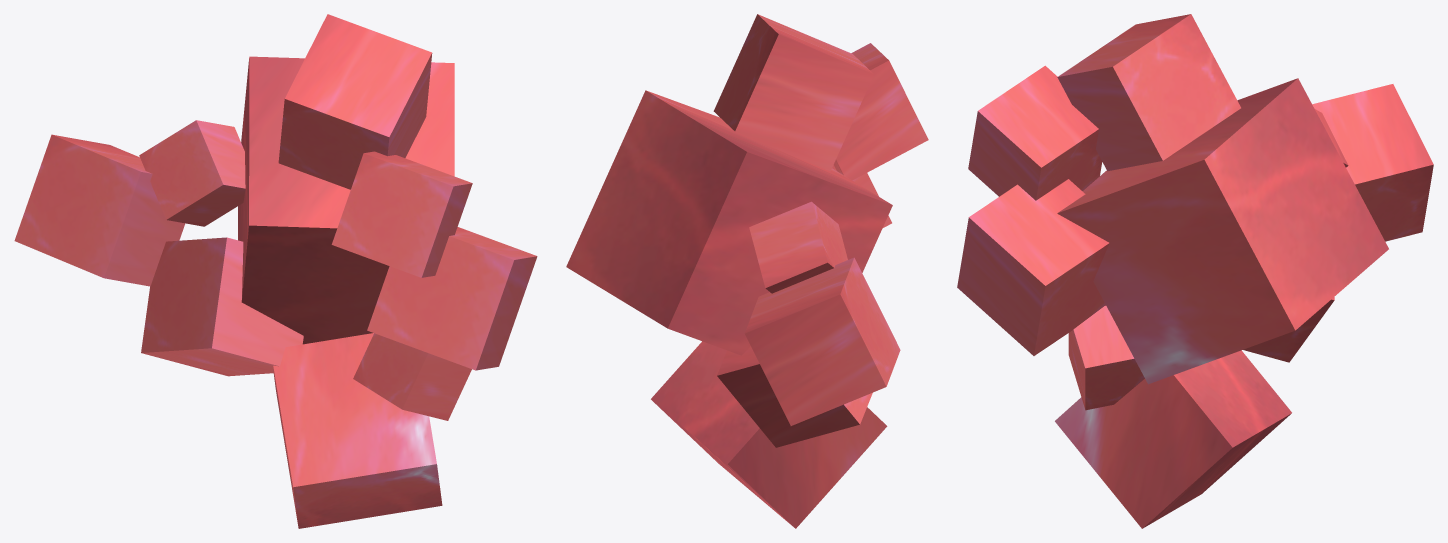
The model's file is lingmengkuang_2.fbx.
The picture shows the model from 3 angles, left to right: view 1: azimuth 30°, elevation 25°; view 2: azimuth 150°, elevation 25°; view 3: azimuth 270°, elevation 25°; orthographic projection. The views are drawn at different scales.
Visible parts, largest first — view 1: polySurface1; view 2: polySurface1; view 3: polySurface1.
Part boxes in pixels (x1,y1,x2,y2): polySurface1: (14,14,537,528); polySurface1: (566,14,928,528); polySurface1: (957,14,1433,528).
Size of the model in its own units: 96.79 by 124 by 109.
